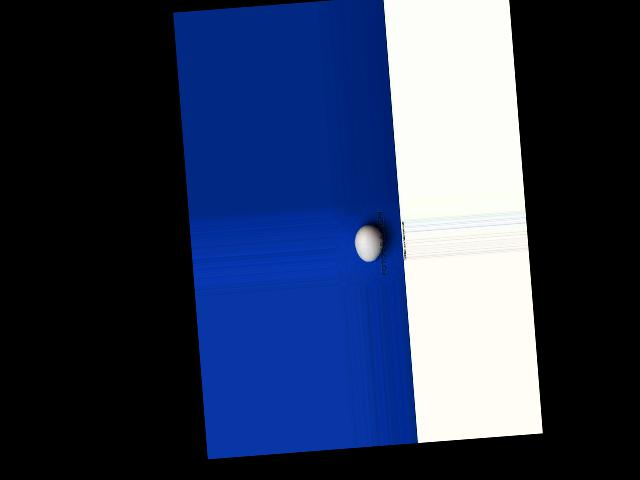egg: (353, 223, 385, 262)
